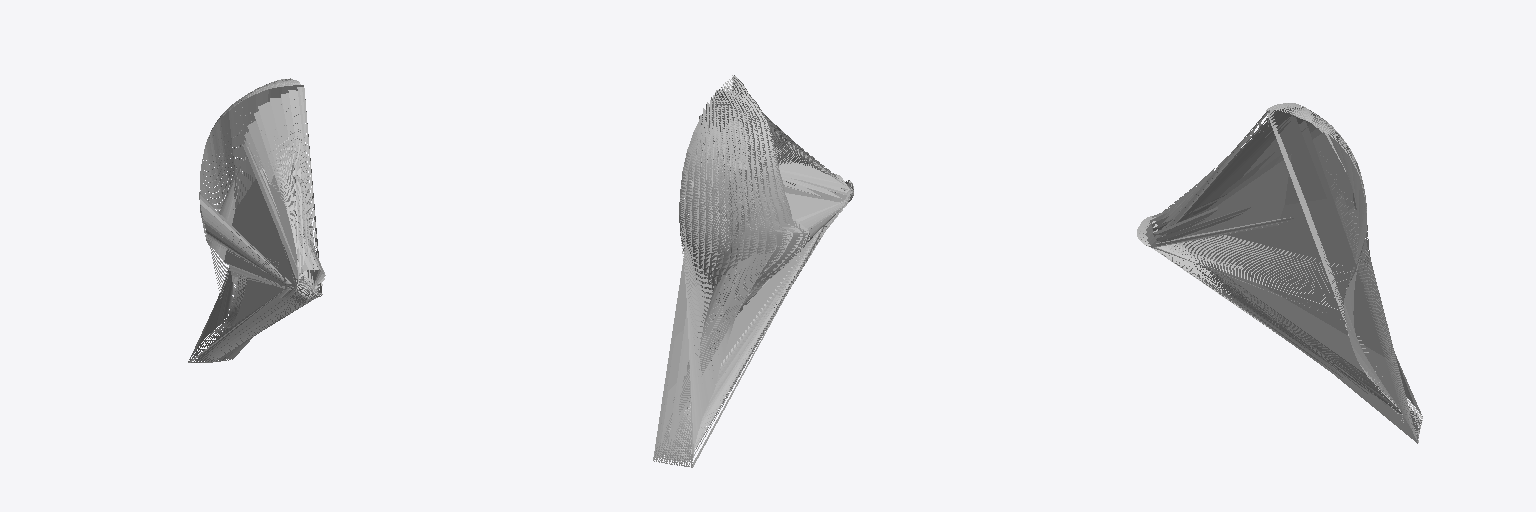
Rendered from 00001_detail.obj.
3 views of the same model, side by side, from view 1: azimuth 30°, elevation 25°; view 2: azimuth 150°, elevation 25°; view 3: azimuth 270°, elevation 25° (orthographic).
Visible parts, largest first — view 1: Head; view 2: Head; view 3: Head.
Boxes of the visible parts, x1,y1,x2,y2 form: Head: [188, 78, 325, 362]; Head: [653, 75, 853, 467]; Head: [1137, 103, 1422, 443].
Bounding box in the file's own units: 0.0815 × 0.2798 × 0.219.